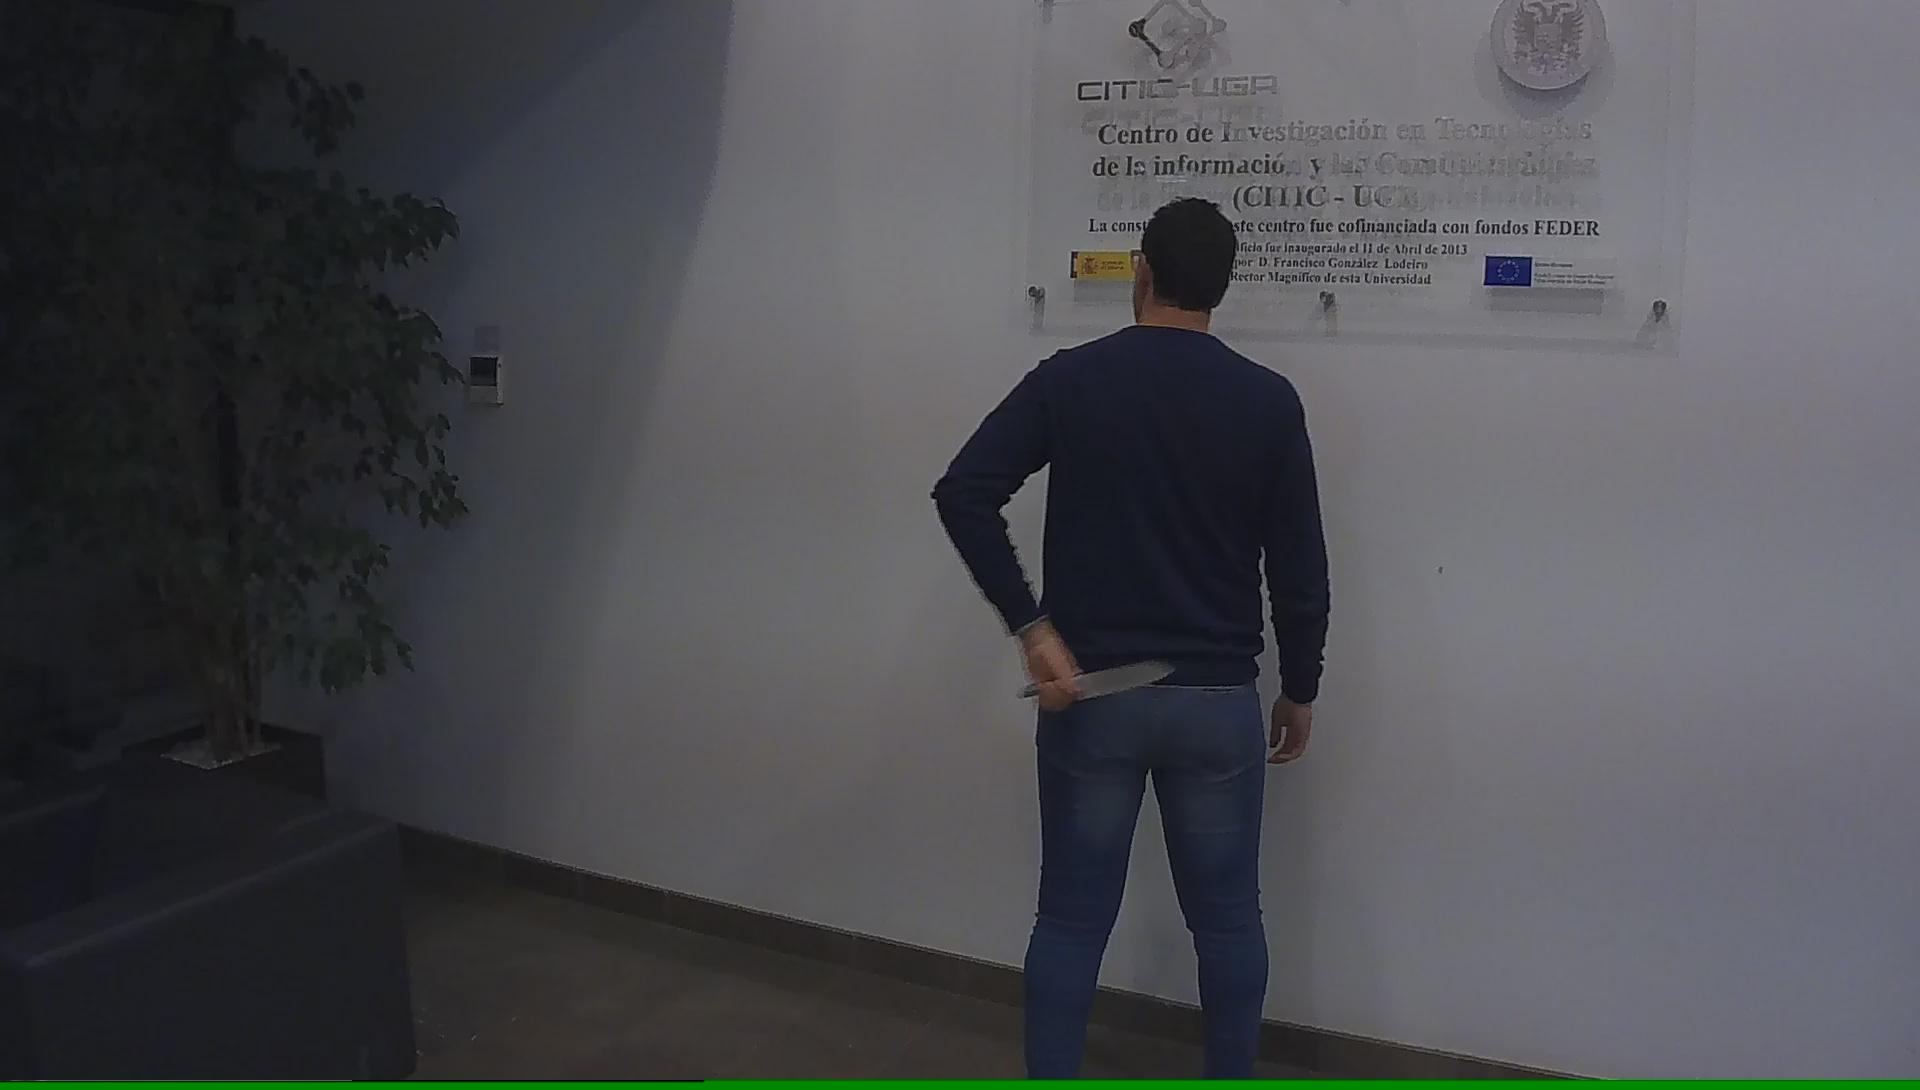criminal: (931, 196, 1335, 1081)
weapon: (1017, 648, 1180, 713)
